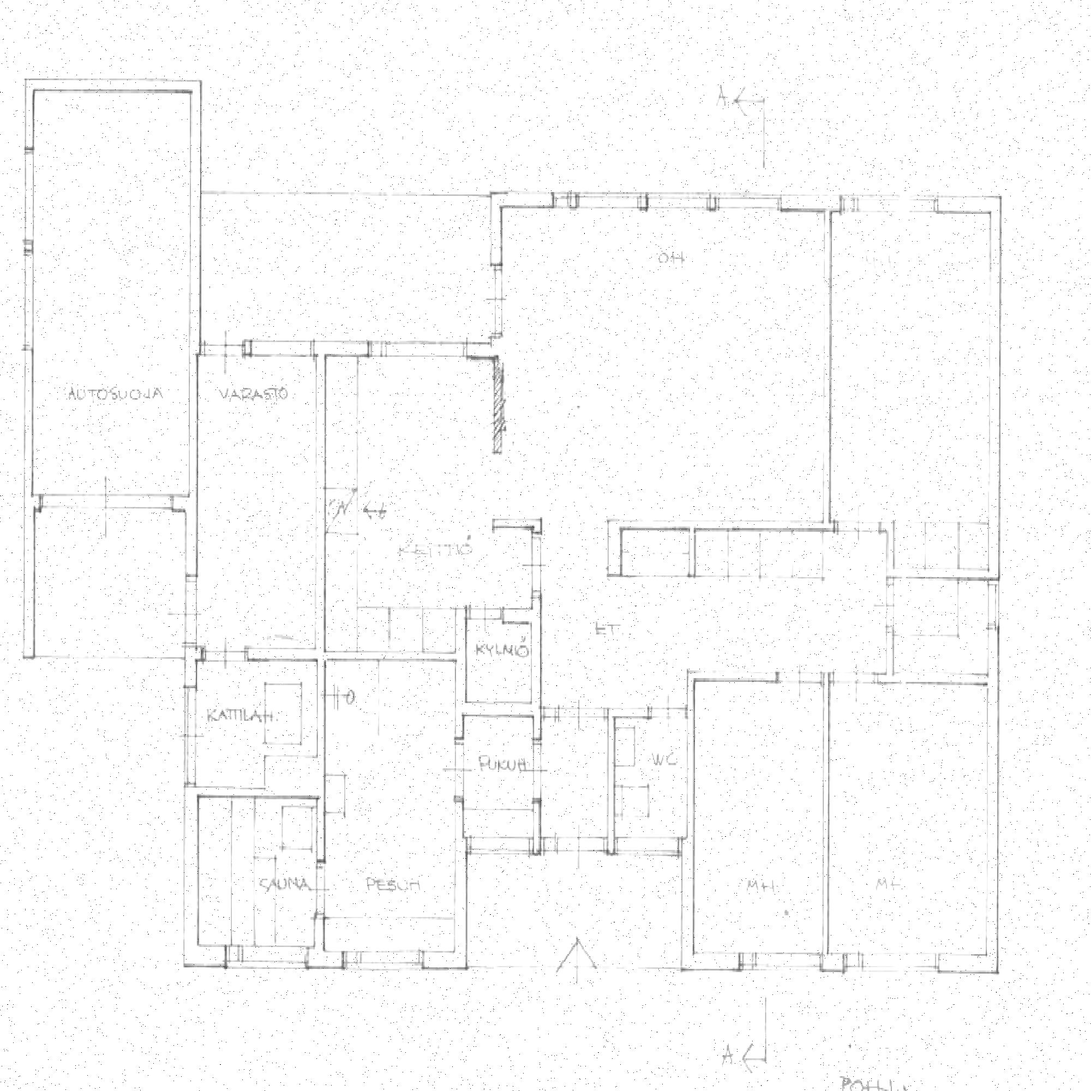wall: (990, 193, 1001, 971), (492, 193, 1001, 209), (185, 493, 198, 971), (682, 953, 1001, 971), (185, 953, 468, 971), (317, 356, 325, 953), (190, 341, 502, 356), (455, 836, 694, 854), (25, 79, 33, 511), (25, 493, 198, 511), (190, 79, 201, 356), (687, 672, 990, 682), (198, 651, 463, 662), (609, 521, 894, 531), (263, 757, 317, 799), (25, 79, 201, 91), (823, 208, 829, 521), (491, 193, 502, 356), (823, 682, 829, 953), (682, 836, 694, 971), (455, 836, 467, 971), (533, 705, 694, 715), (455, 651, 463, 837), (25, 511, 34, 655), (886, 521, 894, 672), (455, 609, 541, 622), (455, 702, 541, 715), (190, 356, 197, 507), (533, 705, 541, 836), (532, 609, 541, 715), (687, 705, 694, 836), (532, 521, 541, 622), (894, 569, 990, 578), (608, 715, 615, 836), (198, 787, 264, 799), (494, 356, 502, 452), (609, 521, 621, 577), (491, 521, 541, 530), (455, 609, 463, 662), (687, 672, 694, 715), (688, 531, 694, 577)
